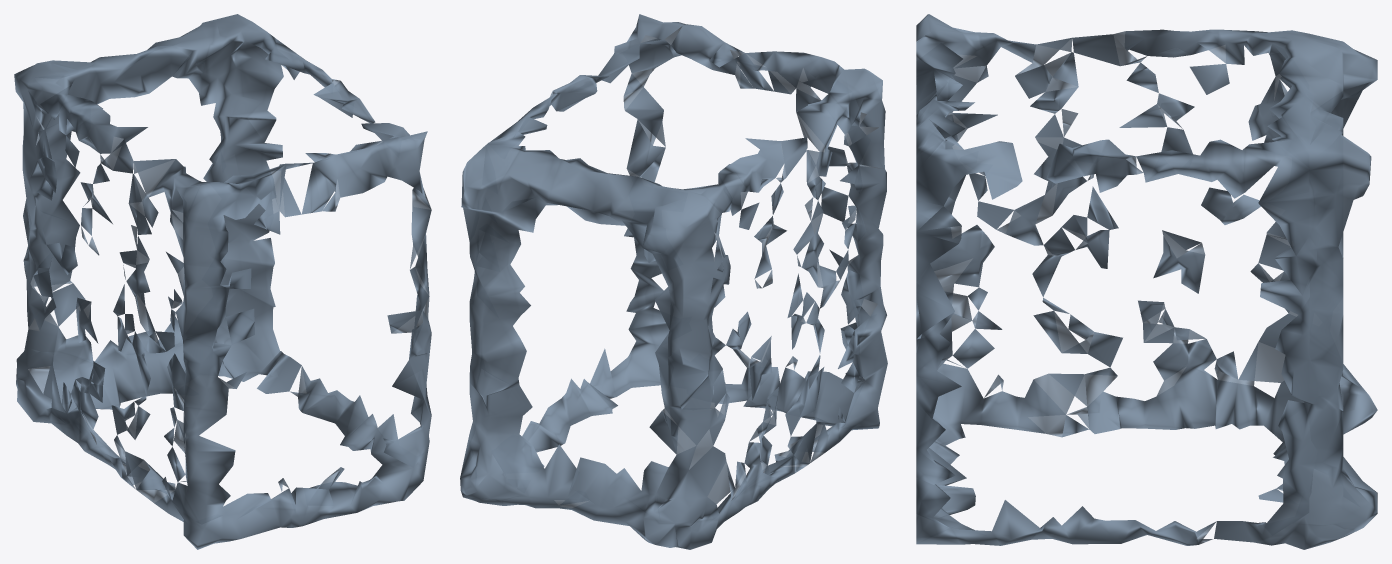
Rendered from sample_620_orig.obj.
3 views of the same model, side by side, from view 1: azimuth 30°, elevation 25°; view 2: azimuth 150°, elevation 25°; view 3: azimuth 270°, elevation 25° (orthographic). The views are drawn at different scales.
Size of the model in its own units: 0.9083 by 1.29 by 1.29.
